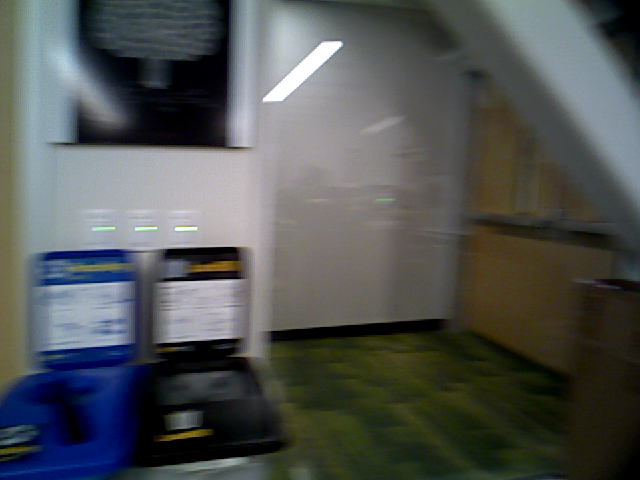painting1: (52, 1, 250, 147)
